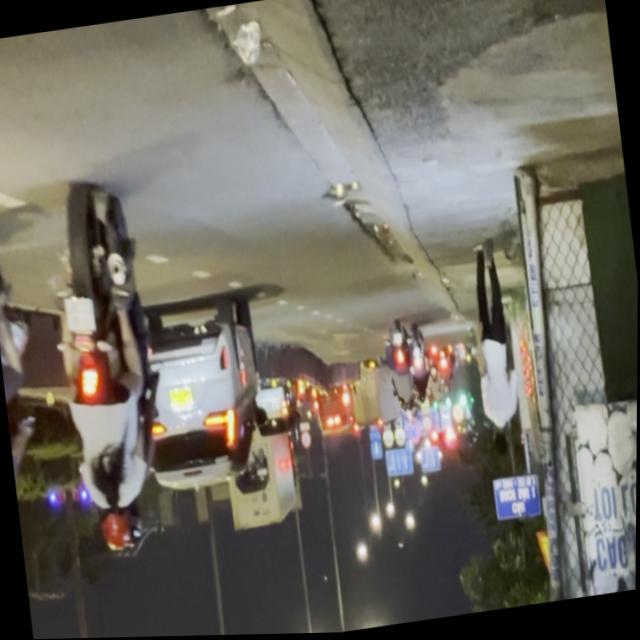helmet: (96, 506, 131, 557), (118, 502, 146, 557)
licenseplate: (33, 175, 179, 566), (0, 205, 58, 587)
nohelmet: (62, 294, 96, 336)
